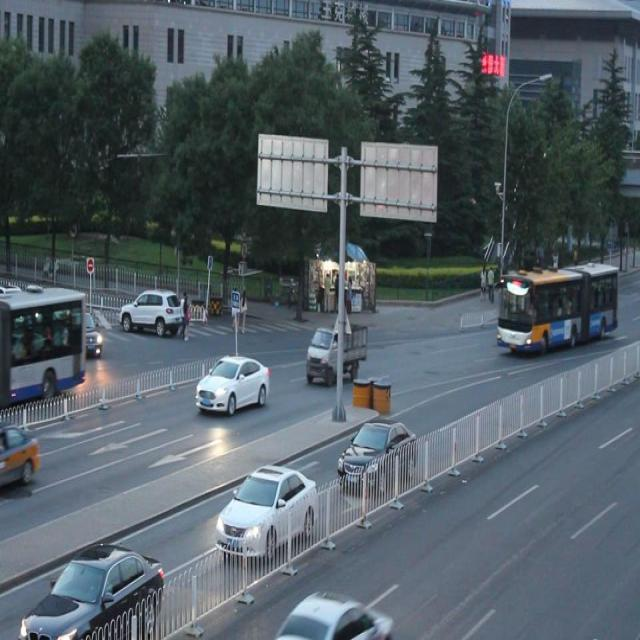bus: (306, 323, 367, 382)
car: (19, 535, 162, 640), (215, 466, 317, 554), (272, 582, 391, 640), (338, 416, 418, 492), (194, 353, 268, 413), (0, 415, 40, 494), (124, 288, 180, 334), (74, 307, 102, 360)
van: (1, 284, 86, 402), (498, 264, 616, 349)
